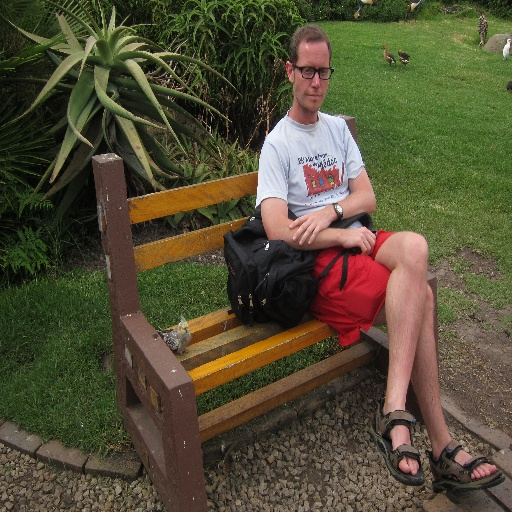hand: (331, 203, 372, 260), (288, 207, 332, 247)
